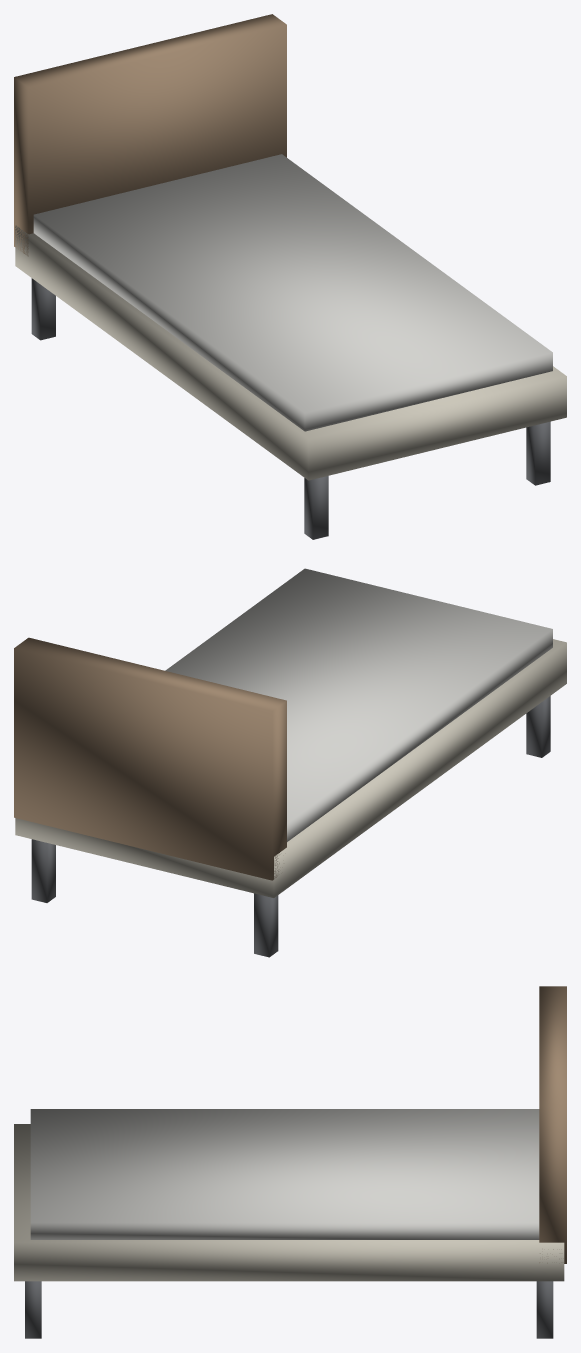
File: single_bed__squat.glb
3 renders of one model, top to bottom at view 1: azimuth 30°, elevation 25°; view 2: azimuth 150°, elevation 25°; view 3: azimuth 270°, elevation 25°, orthographic. The views are drawn at different scales.
Visible parts, largest first — view 1: world; view 2: world; view 3: world.
Boxes of the visible parts, bbox=[...] form: world: bbox=[14, 14, 566, 539]; world: bbox=[14, 568, 566, 957]; world: bbox=[14, 986, 566, 1338].
Size of the model in its own units: 1.1 by 1.03 by 2.17.
